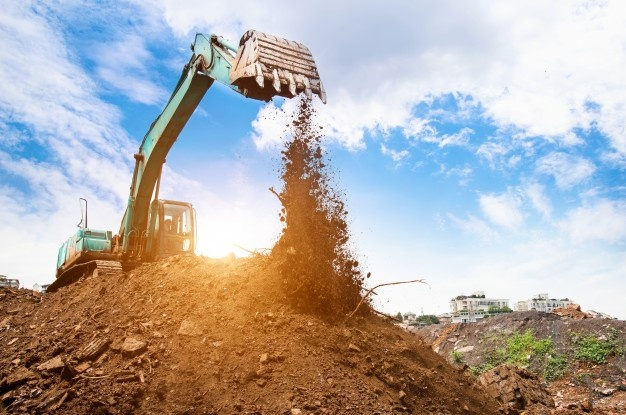backhoe: (54, 26, 329, 297)
